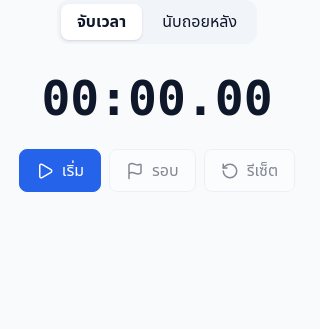
Test case: TimerWidget › keeps the stopwatch running while viewing the countdown tab
The width and height of the screenshot is (320, 329).
What coordinates should you click on to do the following:
click the button "เริ่ม"
I would click on:
 (60, 171)
Its box is [19,149,101,192].
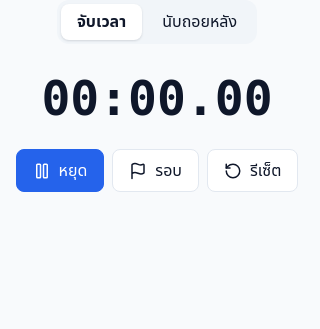
What coordinates should you click on to do the following:
click the tab "นับถอยหลัง"
I would click on:
 (200, 22)
Its box is [146,4,253,40].
Wait 3000 ms
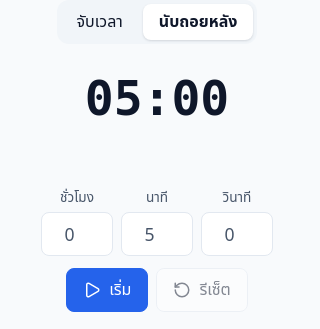
What coordinates should you click on to do the following:
click the tab "จับเวลา"
I would click on:
 (100, 22)
Its box is [61,4,139,40].
Wait 100 ms
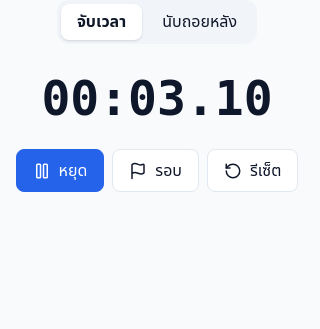
Expected: the text "00:03.10" is shown, [41,60,273,137]
